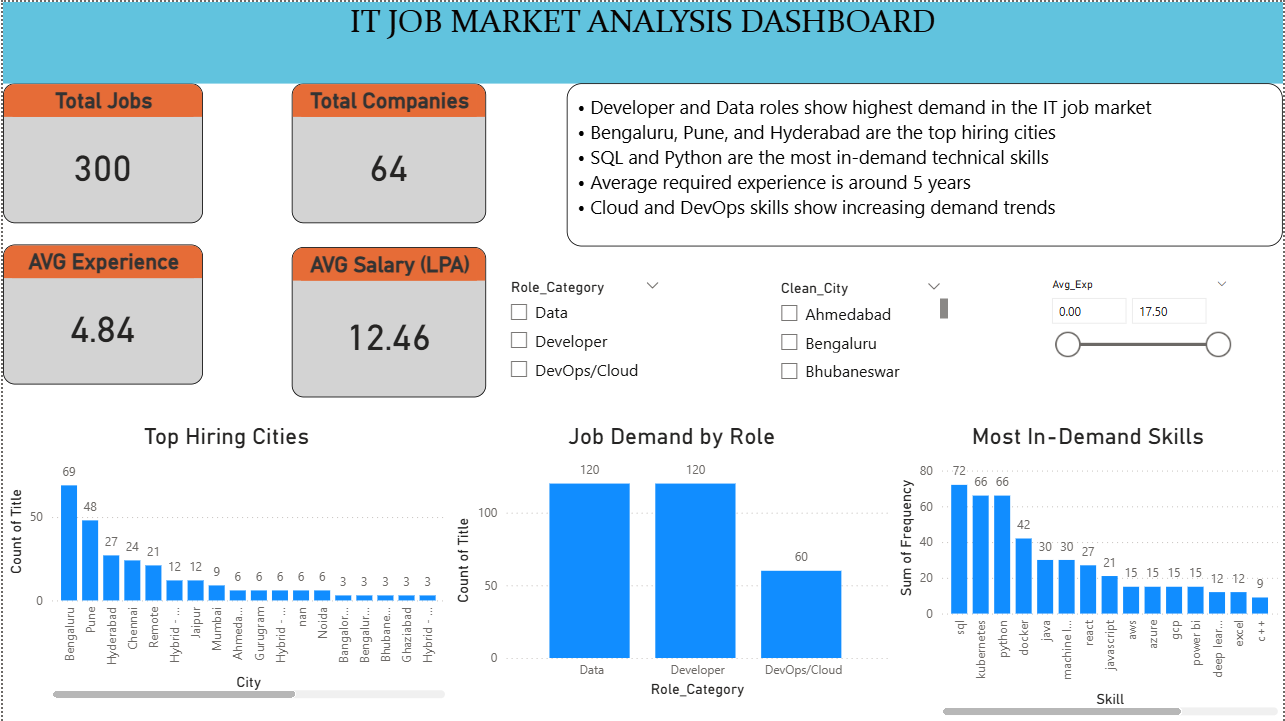

What the dashboard file says about the page in this screenshot:
{"tool":"powerbi","page":{"name":"Page 1","canvas":[1280,720],"ordinal":0},"visuals":[{"type":"card","title":"Total Jobs","fields":{"Values":["CountNonNull(jobs_cleaned.Title)"]},"box":[0,81.4,200,140],"z":0},{"type":"card","title":"Total Companies","fields":{"Values":["Count(jobs_cleaned.Company)"]},"box":[288.5,81.6,194.3,140.2],"z":1000},{"type":"card","title":"AVG Experience","fields":{"Values":["Avg(jobs_cleaned.Avg_Exp)"]},"box":[0,242.9,200,140],"z":2000},{"type":"clusteredColumnChart","title":"Job Demand by Role","fields":{"Category":["jobs_cleaned.Role_Category"],"Y":["CountNonNull(jobs_cleaned.Title)"]},"box":[447.1,420,442.9,280],"z":3000},{"type":"clusteredColumnChart","title":"Top Hiring Cities","fields":{"Category":["jobs_cleaned.City"],"Y":["CountNonNull(jobs_cleaned.Title)"]},"box":[0,420,447.1,281.4],"z":4000},{"type":"clusteredColumnChart","title":"Most In-Demand Skills","fields":{"Category":["skills_demand.Skill"],"Y":["Sum(skills_demand.Frequency)"]},"box":[890,420,390,298.6],"z":5000},{"type":"textbox","title":"IT JOB MARKET ANALYSIS DASHBOARD","box":[0,0,1280,81.2],"z":6000},{"type":"card","title":"AVG Salary (LPA)","fields":{"Values":["Avg(jobs_cleaned.avg_salary)"]},"box":[288.5,244.8,194.3,150.6],"z":6001},{"type":"slicer","fields":{"Values":["jobs_cleaned.Role_Category"]},"box":[495.4,271.3,173.6,116.1],"z":6002},{"type":"slicer","fields":{"Values":["jobs_cleaned.Avg_Exp"]},"box":[1036.8,271.3,200,116.1],"z":6004},{"type":"slicer","fields":{"Values":["jobs_cleaned.Clean_City"]},"box":[765.5,272.4,185.1,114.9],"z":6005},{"type":"textbox","box":[564.4,81.6,716.1,163.2],"z":6006}]}

Visuals, with their boxes in screenshot pixels (x1, y1, x2, y2), scaled from the page's 1280x720 canvas onto the 1285x721 screenshot:
"Total Jobs" card: {"x1": 0, "y1": 82, "x2": 201, "y2": 222}
"Total Companies" card: {"x1": 290, "y1": 82, "x2": 485, "y2": 222}
"AVG Experience" card: {"x1": 0, "y1": 243, "x2": 201, "y2": 383}
"Job Demand by Role" clusteredColumnChart: {"x1": 449, "y1": 421, "x2": 893, "y2": 701}
"Top Hiring Cities" clusteredColumnChart: {"x1": 0, "y1": 421, "x2": 449, "y2": 702}
"Most In-Demand Skills" clusteredColumnChart: {"x1": 893, "y1": 421, "x2": 1284, "y2": 720}
"IT JOB MARKET ANALYSIS DASHBOARD" textbox: {"x1": 0, "y1": 0, "x2": 1284, "y2": 81}
"AVG Salary (LPA)" card: {"x1": 290, "y1": 245, "x2": 485, "y2": 396}
slicer - jobs_cleaned.Role_Category: {"x1": 497, "y1": 272, "x2": 672, "y2": 388}
slicer - jobs_cleaned.Avg_Exp: {"x1": 1041, "y1": 272, "x2": 1242, "y2": 388}
slicer - jobs_cleaned.Clean_City: {"x1": 768, "y1": 273, "x2": 954, "y2": 388}
textbox: {"x1": 567, "y1": 82, "x2": 1284, "y2": 245}
